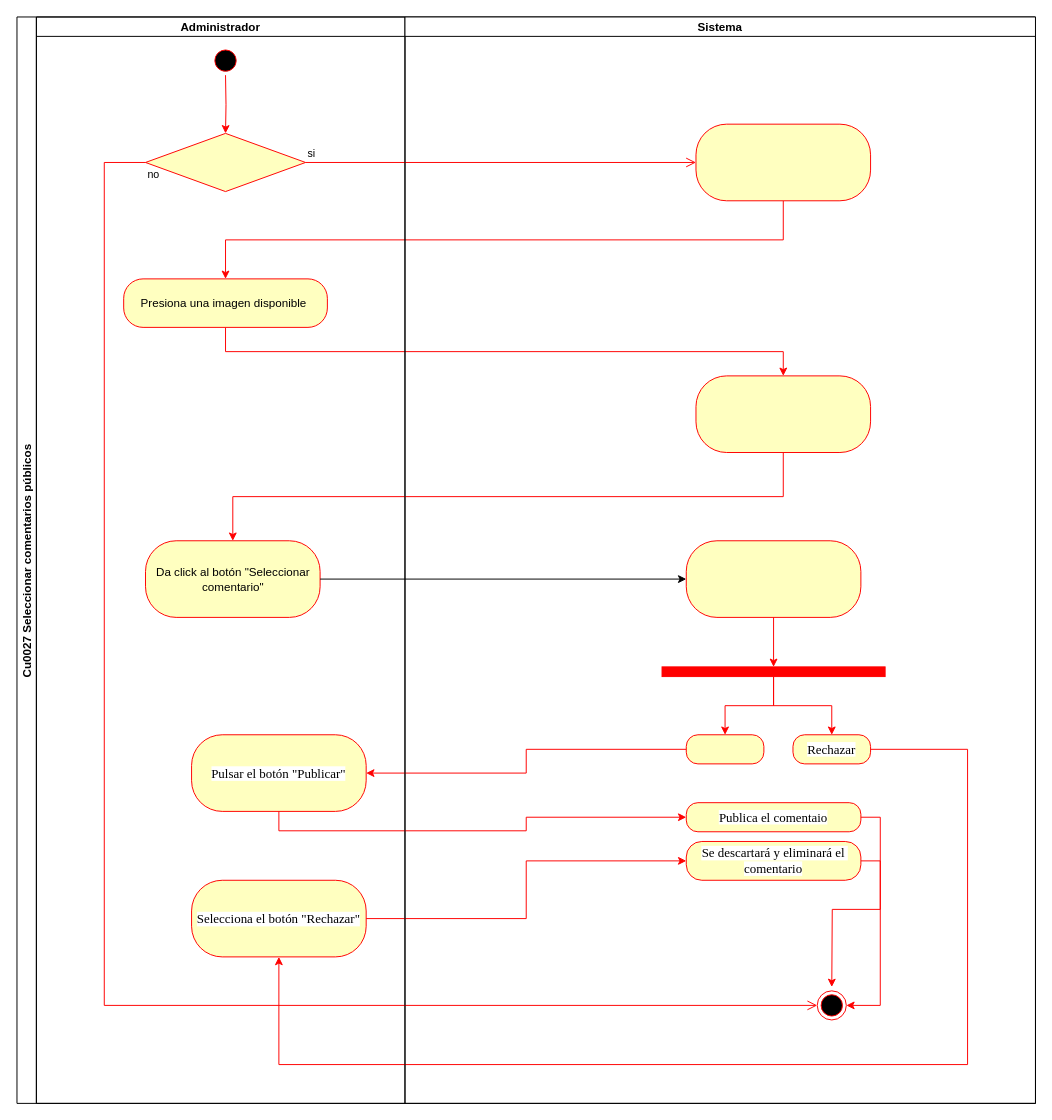
Some shapes in this 1052 by 1120 pixel diagram are drawn without their labels. The centre of each missing label's shape, as x and y in pixels:
Acceder al apartado de "Galería de eventos": (225,162)
Muestra el apartado de imagénes: (783,162)
Muestra la imagen con su comentario: (783,414)
Publicar: (724,749)
Se muestran listado de comentarios: (773,578)
